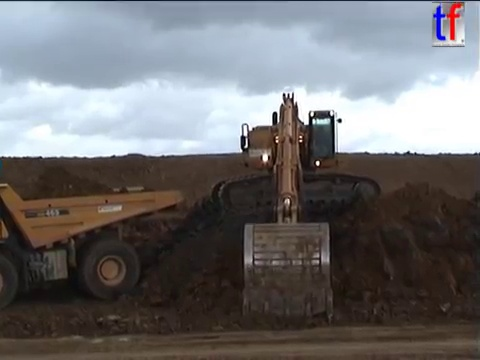excavator: (207, 89, 384, 328)
truck: (1, 180, 186, 311)
